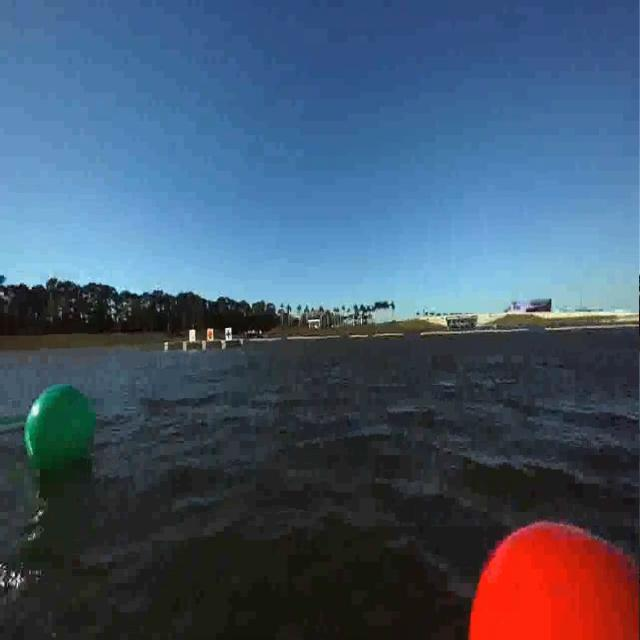green-buoy: (23, 380, 98, 471)
red-buoy: (463, 513, 640, 640)
